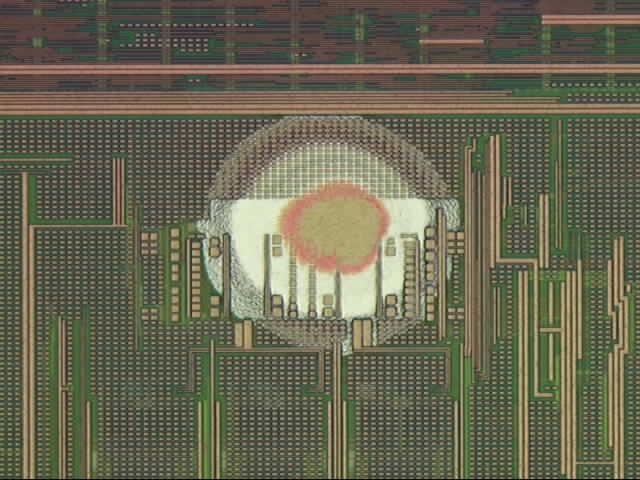BLOCK ETCH: (196, 112, 464, 357)
